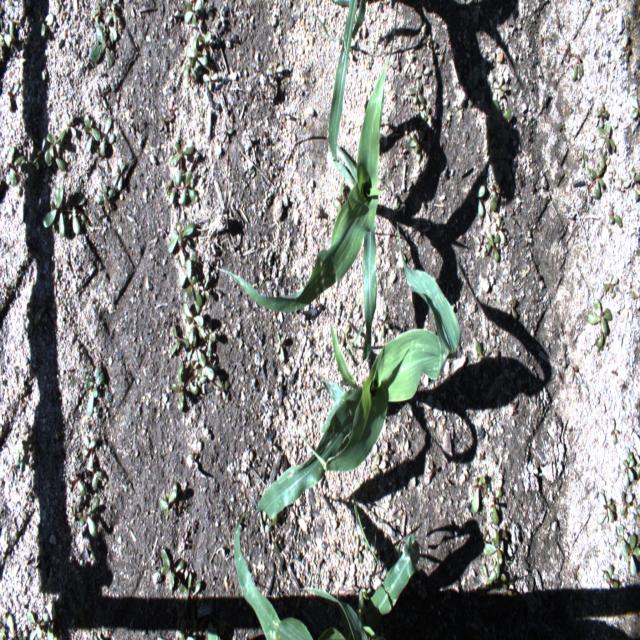crop: (213, 2, 397, 362), (252, 212, 462, 519), (234, 507, 420, 639), (304, 0, 366, 164)
weed: (43, 186, 87, 237), (172, 362, 199, 410), (179, 260, 202, 316), (165, 169, 198, 207), (168, 221, 195, 267), (588, 298, 612, 349), (618, 524, 640, 576), (89, 25, 115, 67), (583, 152, 605, 198), (161, 548, 184, 590), (182, 302, 204, 344), (44, 130, 66, 170), (491, 100, 511, 144), (6, 145, 27, 186), (179, 572, 201, 611), (484, 528, 506, 564), (170, 144, 194, 176), (83, 111, 101, 152), (170, 322, 190, 356), (99, 117, 115, 157), (197, 348, 215, 383), (160, 484, 178, 519), (598, 492, 616, 525), (472, 477, 487, 512), (598, 122, 616, 151), (484, 232, 501, 262), (490, 170, 502, 210), (622, 452, 635, 488), (490, 488, 502, 525), (408, 78, 425, 103), (604, 564, 618, 590), (623, 165, 639, 187), (595, 102, 608, 129), (603, 275, 618, 297)
